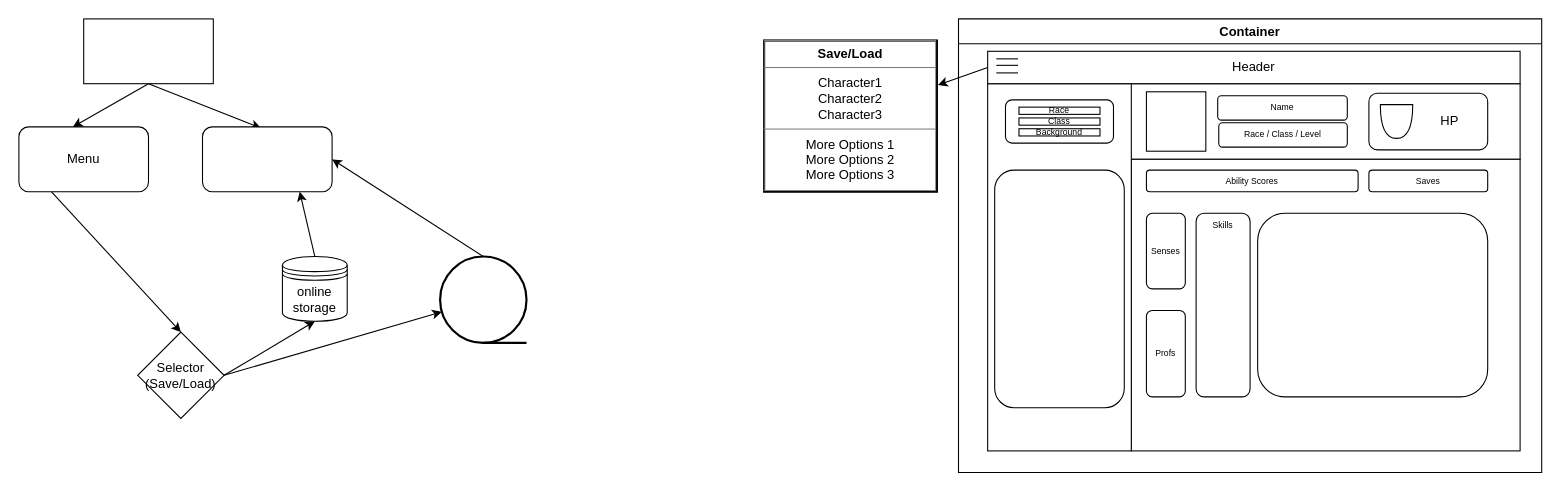
Image size: 1561x491. Some labels were removed from this diagram. The centre of each missing label's shape, as x and y in pixels:
"AC" goes at (x=1396, y=121).
"Actions/Spells/Gear" goes at (x=1372, y=304).
"App" goes at (x=148, y=51).
"Display" goes at (x=266, y=159).
"Level ups" goes at (x=1059, y=288).
"Local storage" goes at (x=482, y=299).
"Picture" goes at (x=1175, y=121).
